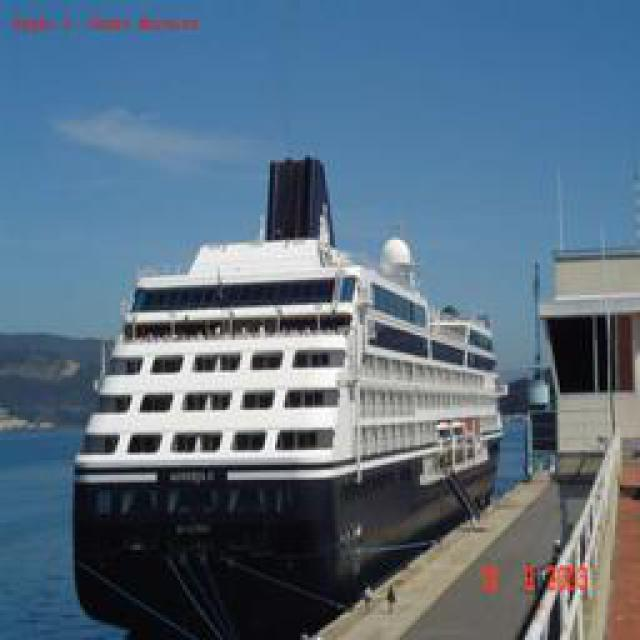Ship: (67, 126, 520, 624)
